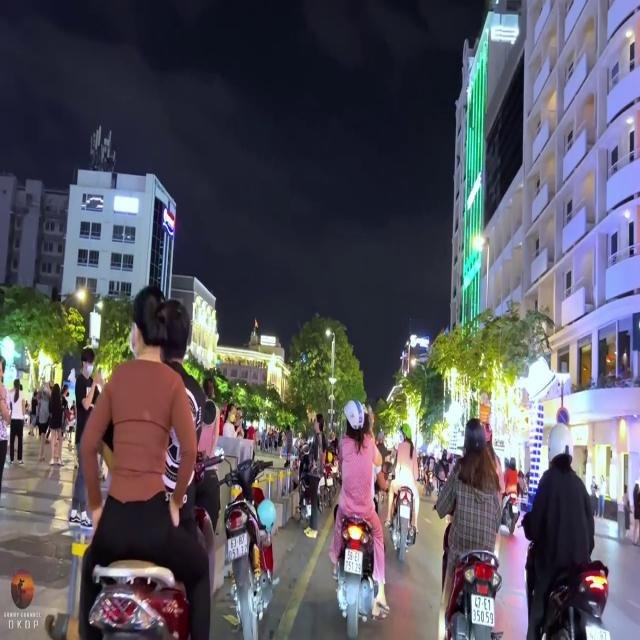bien_trang: (223, 530, 254, 562), (471, 592, 498, 627), (341, 549, 364, 578)
